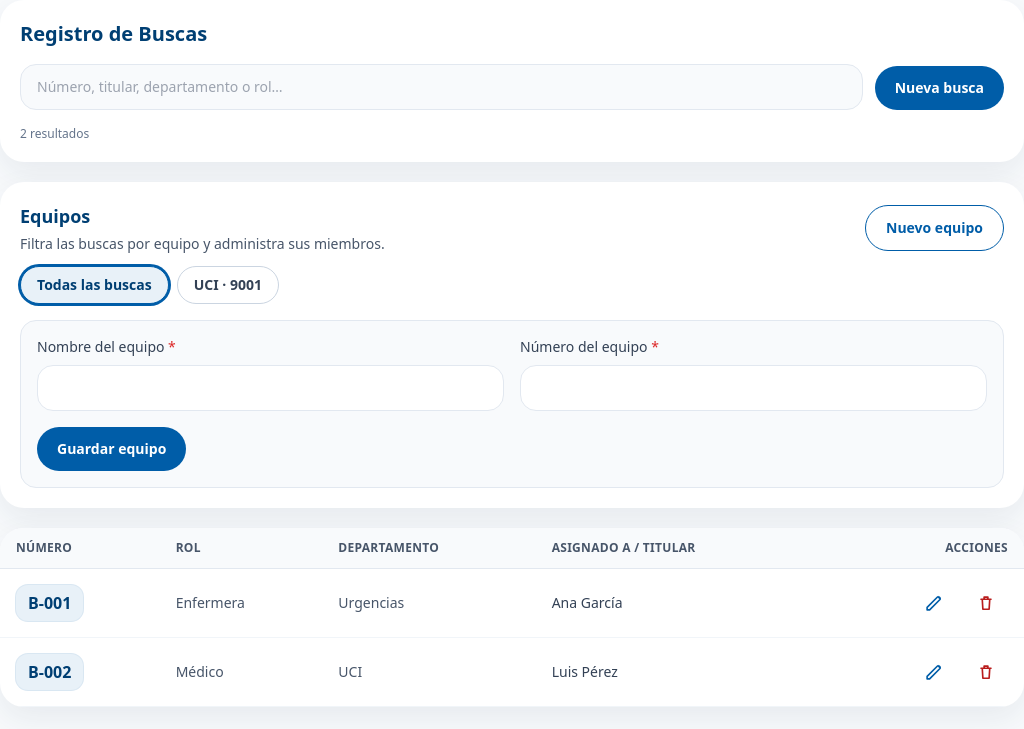
Test: BeepersPage › shows a membership update error beside the member controls
Expected: the text "B-001" is shown, [16,585,83,621]
Click the button "UCI · 9001": x=228, y=285 [177,266,279,304]
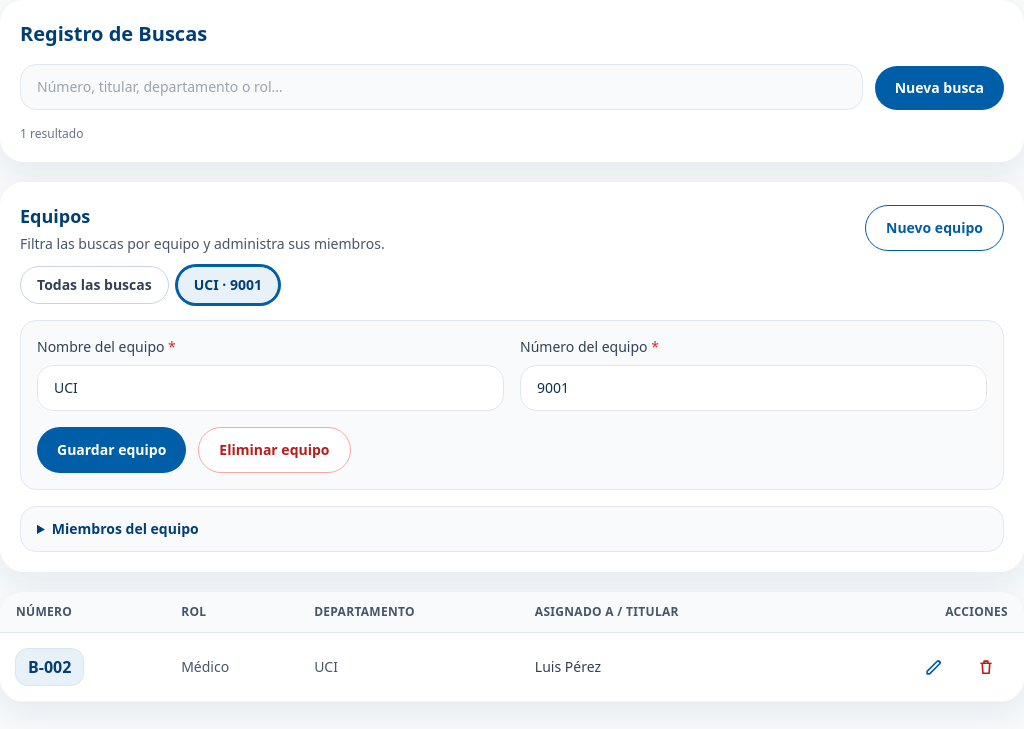
Click the heading "Miembros del equipo": x=125, y=528 [52,519,199,538]
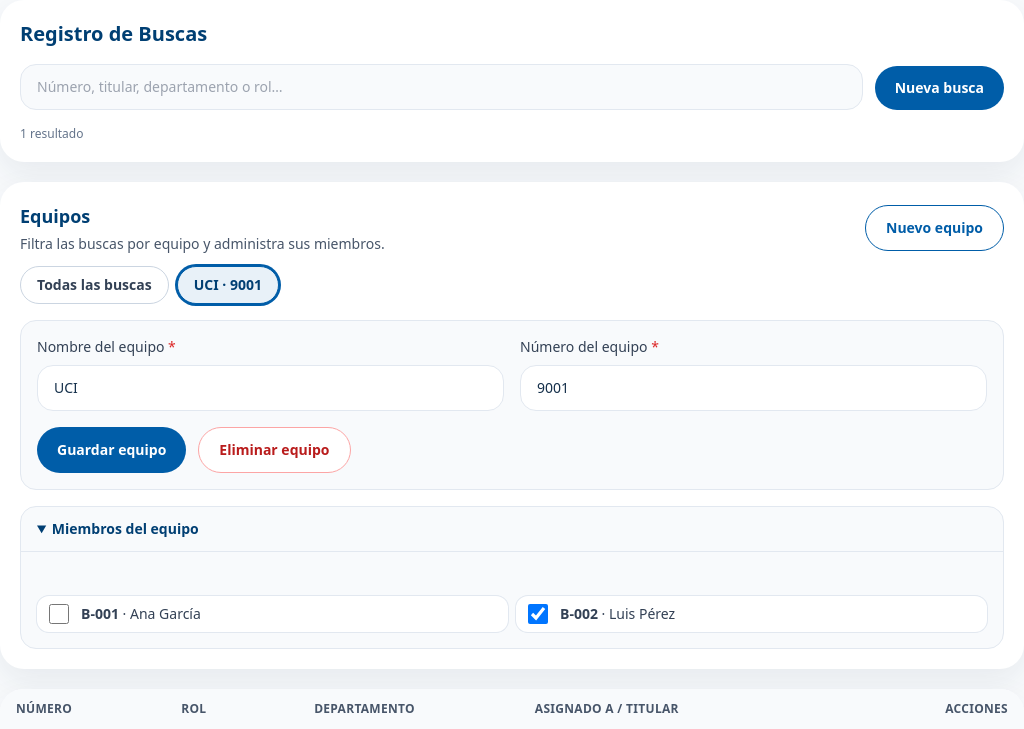
Click the checkbox labelled "B-002 · Luis Pérez": x=538, y=614 [528,604,548,624]
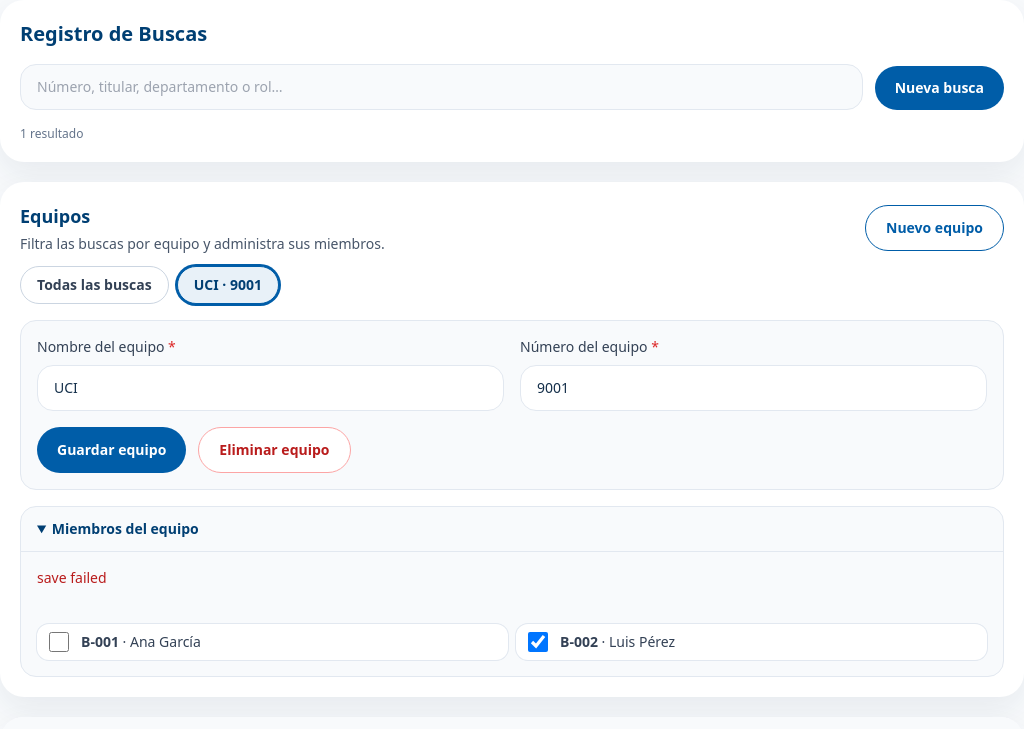
Expected: the text "Buscas incluidas en el equipo" is shown, [21,551,1003,676]
Expected: the message "save failed" is shown, [37,568,107,587]
